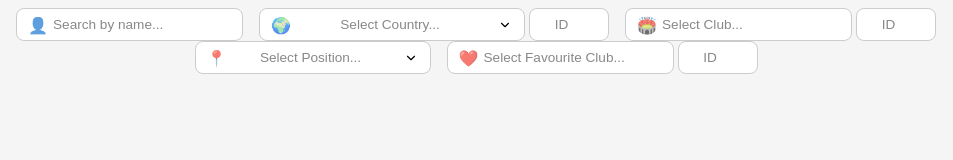
Test: GeneralFilters — country editing (bindable) › updates the ID input when a country is chosen from the select
This screenshot has width=953, height=160.
Select "Angola" in the dropdown named "Select Country" at (392, 24), box [259,8,525,41]
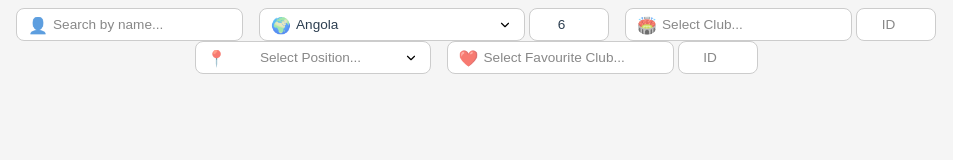
Expected: the number field named "Country ID" holds "6", [529,8,609,41]
